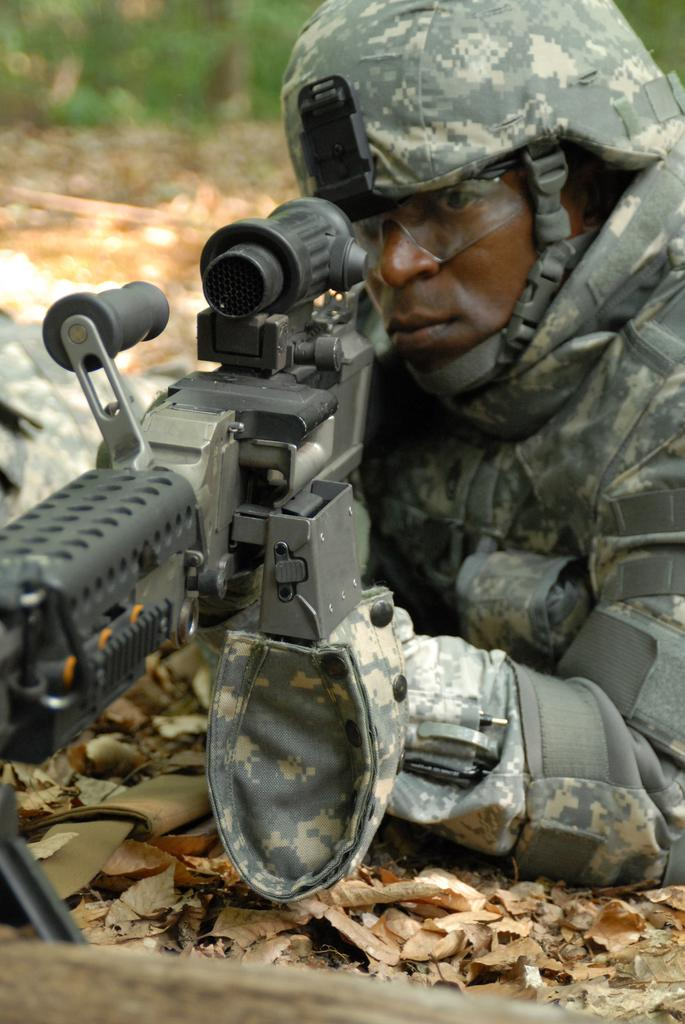Rifle: (0, 196, 415, 943)
